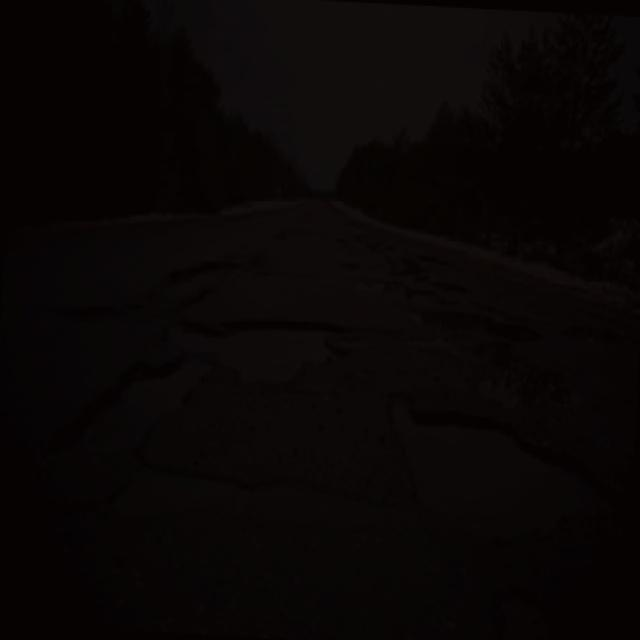Pothole: (374, 382, 620, 542), (76, 457, 396, 528), (43, 349, 219, 460), (161, 309, 348, 379), (396, 296, 544, 378), (344, 236, 468, 298), (476, 576, 562, 640), (162, 251, 242, 301), (562, 323, 632, 354)
